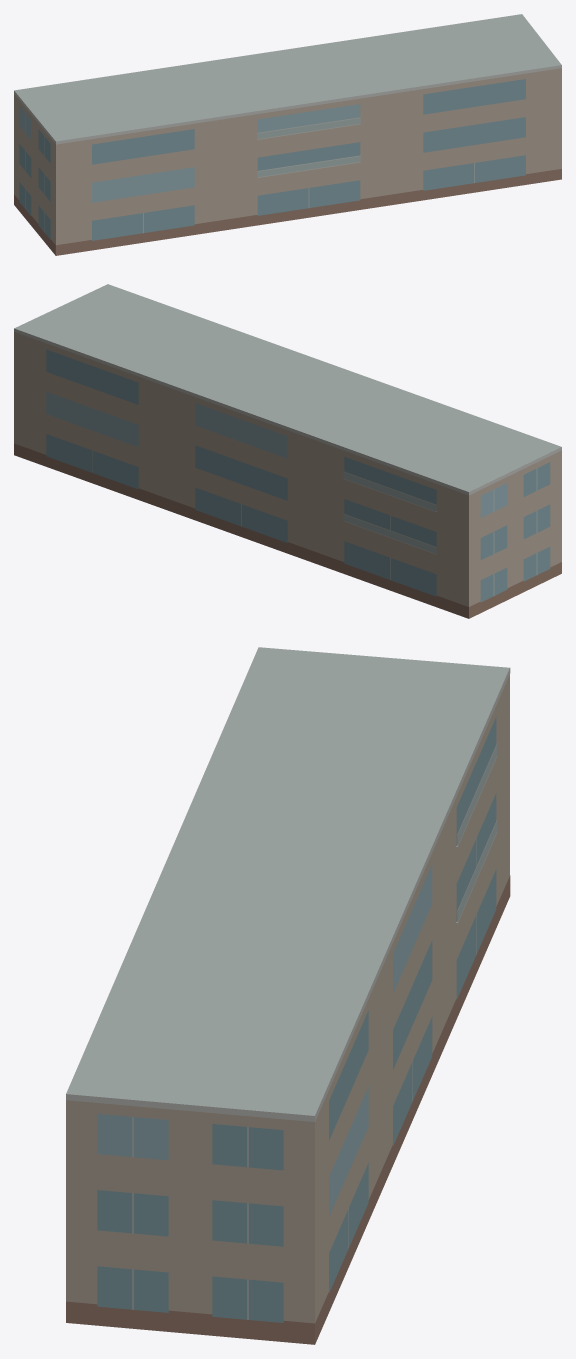
File: survey-upis-33002260.glb
3 views of the same model, one above another, from view 1: azimuth 30°, elevation 25°; view 2: azimuth 150°, elevation 25°; view 3: azimuth 270°, elevation 25° (orthographic). The views are drawn at different scales.
Parts seen in each view (by area): view 1: survey-upis-33002260.tmp; view 2: survey-upis-33002260.tmp; view 3: survey-upis-33002260.tmp.
Boxes of the visible parts, left/top/right/bottom form: survey-upis-33002260.tmp: left=14, top=14, right=561, bottom=255; survey-upis-33002260.tmp: left=14, top=284, right=561, bottom=618; survey-upis-33002260.tmp: left=66, top=647, right=510, bottom=1344.
Bounding box in the file's own units: 40.22 × 9.15 × 16.11.
